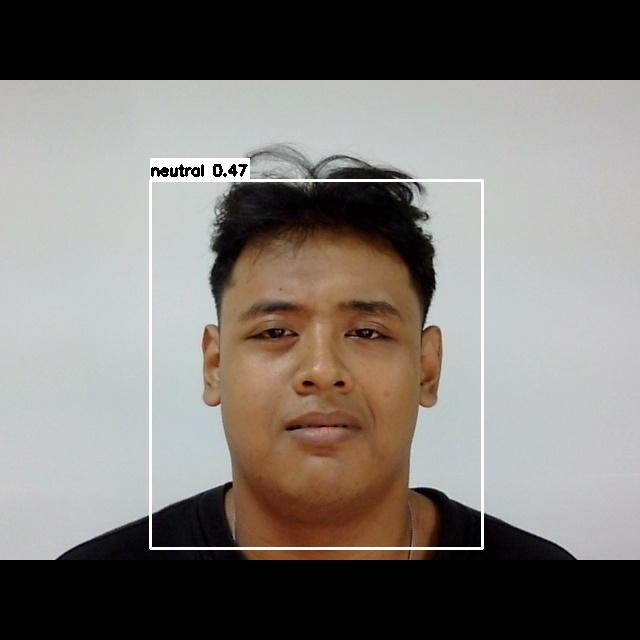Fear: (216, 274, 443, 491)
